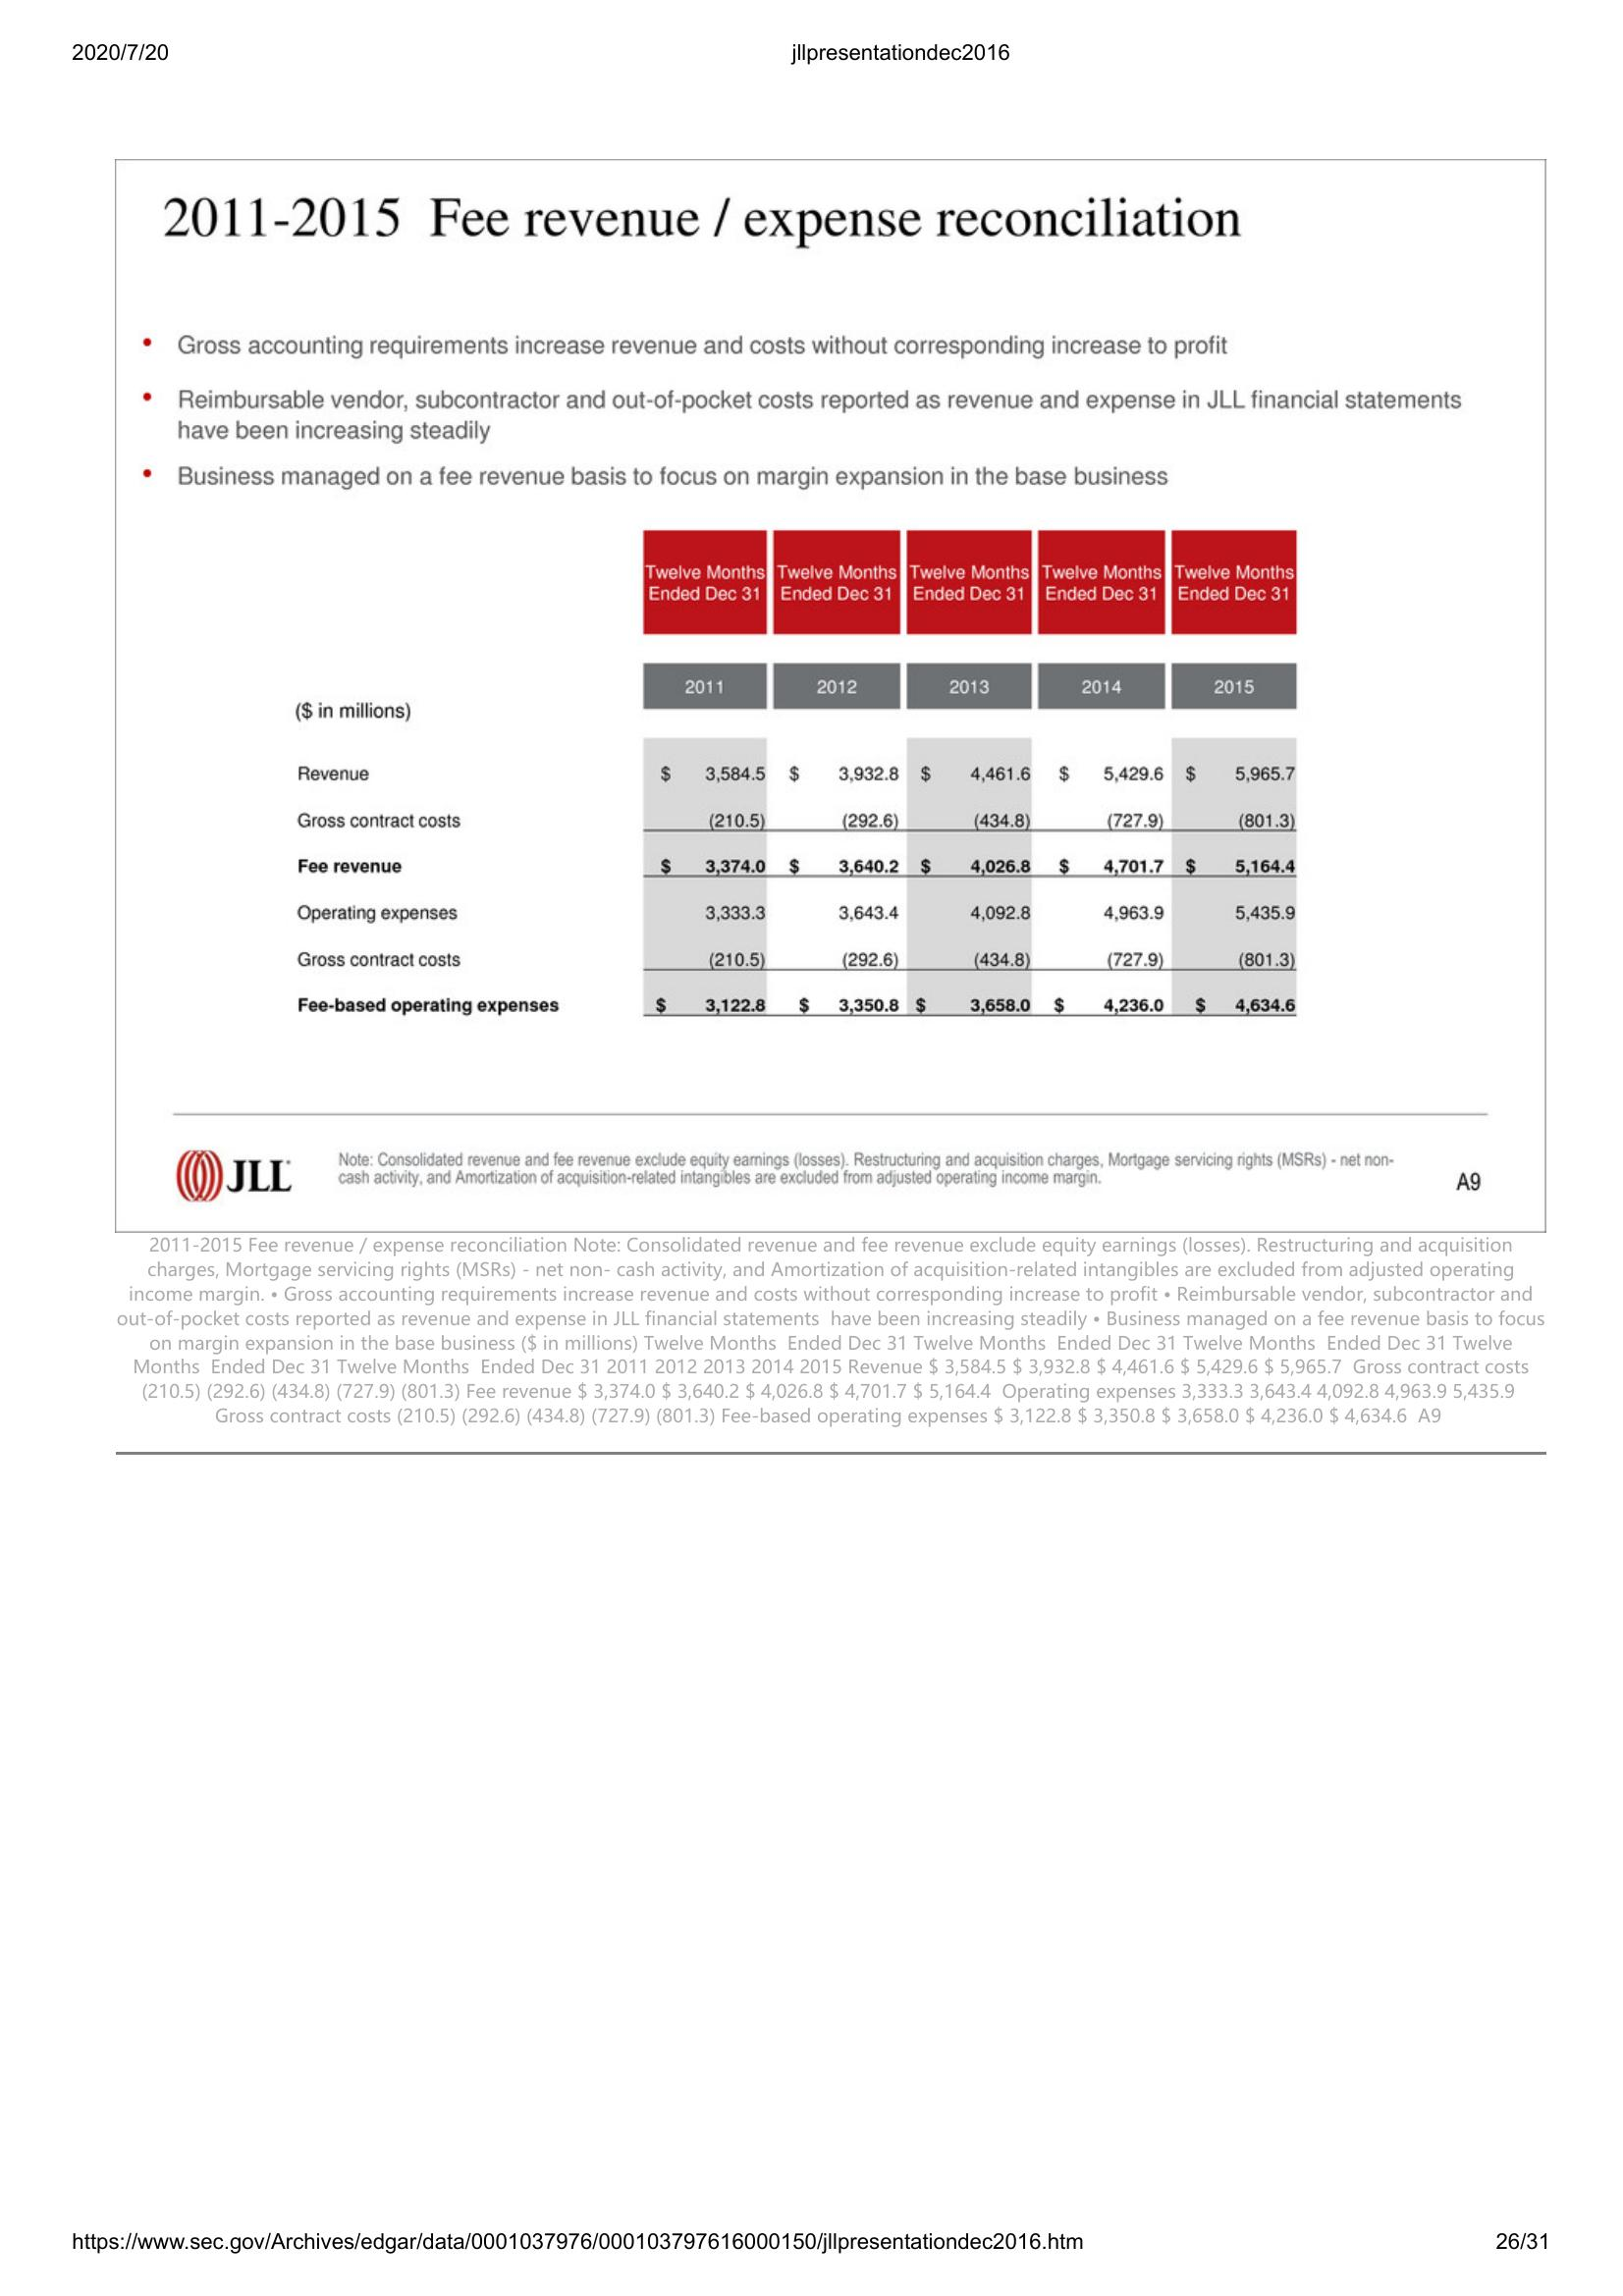table: (283, 516, 1302, 1025)
